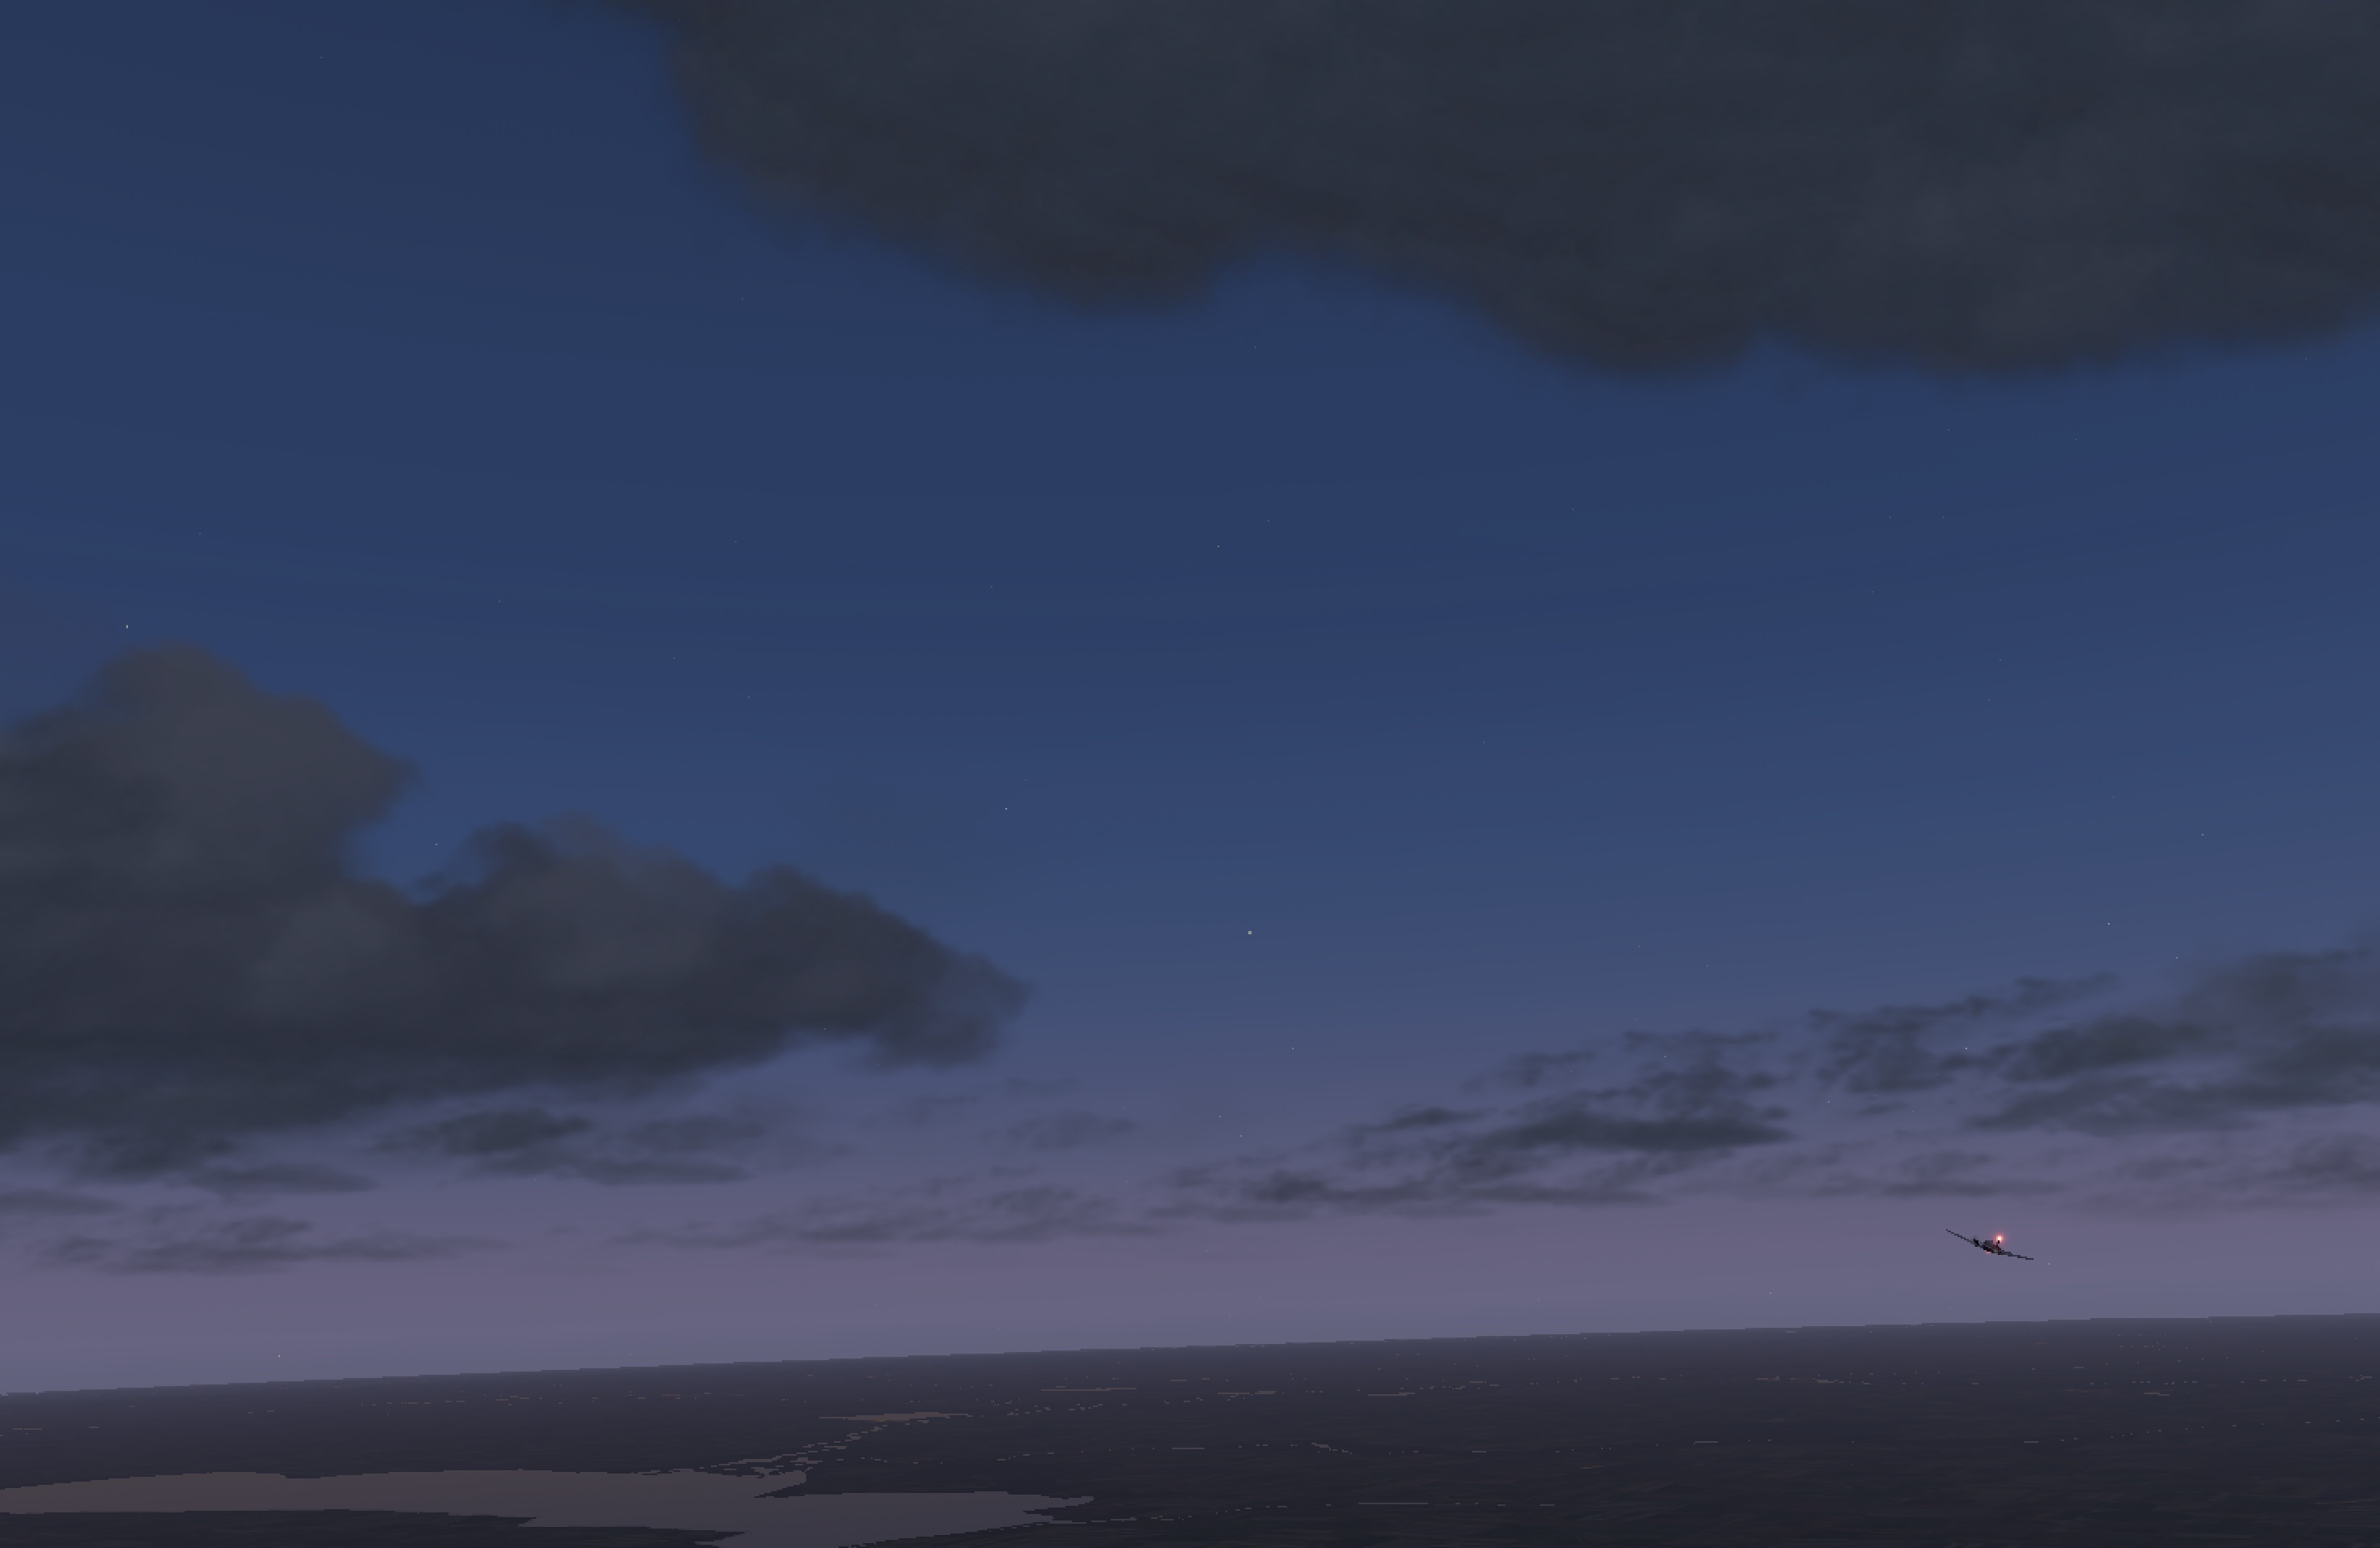aircraft: (1946, 1234, 2028, 1265)
